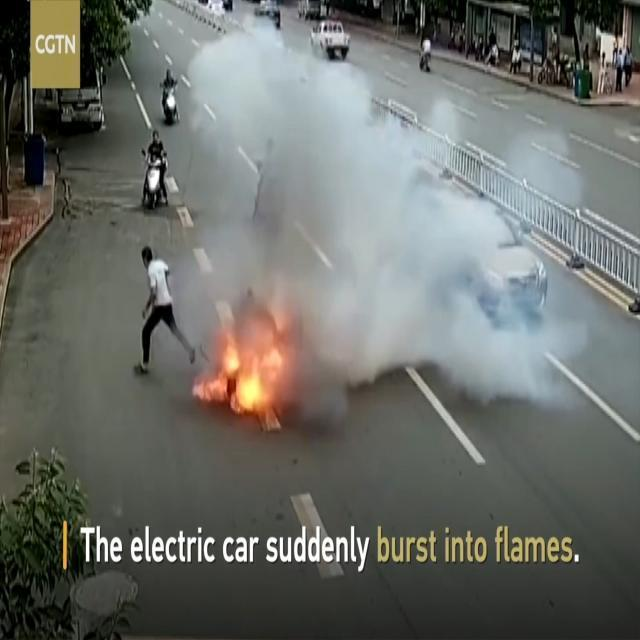fire: (188, 297, 302, 418)
